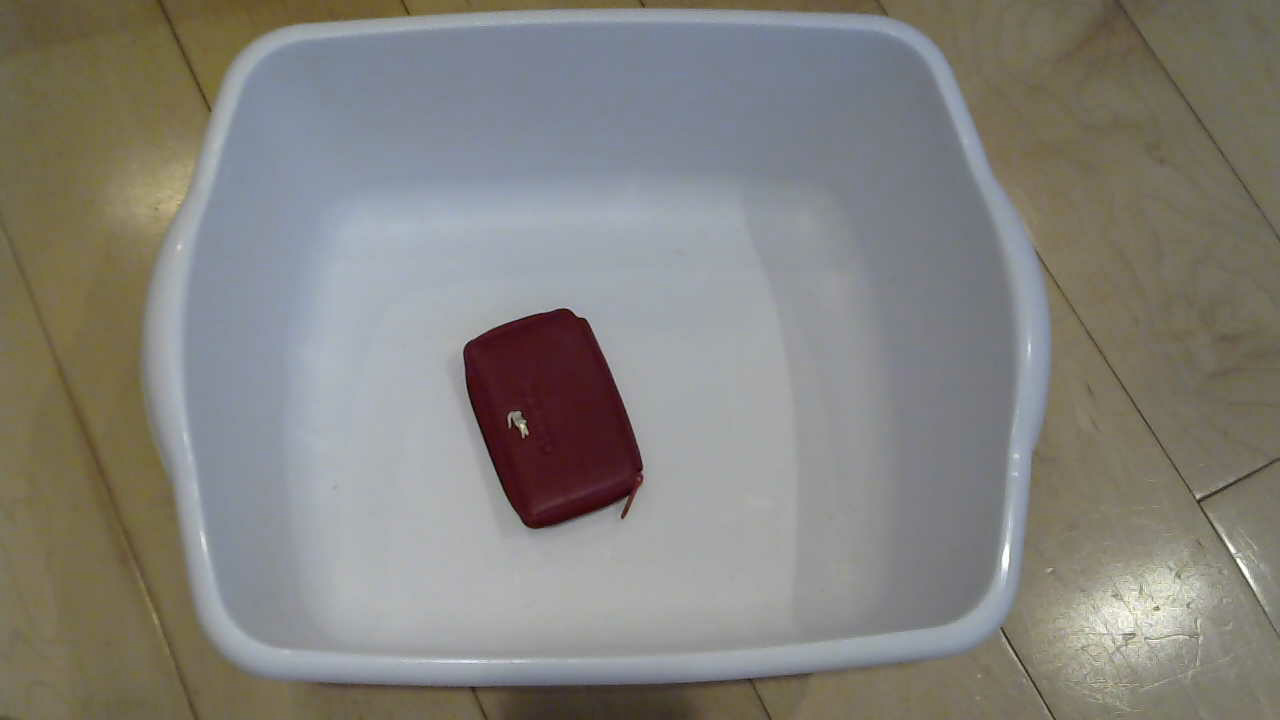wallet: (428, 303, 664, 543)
